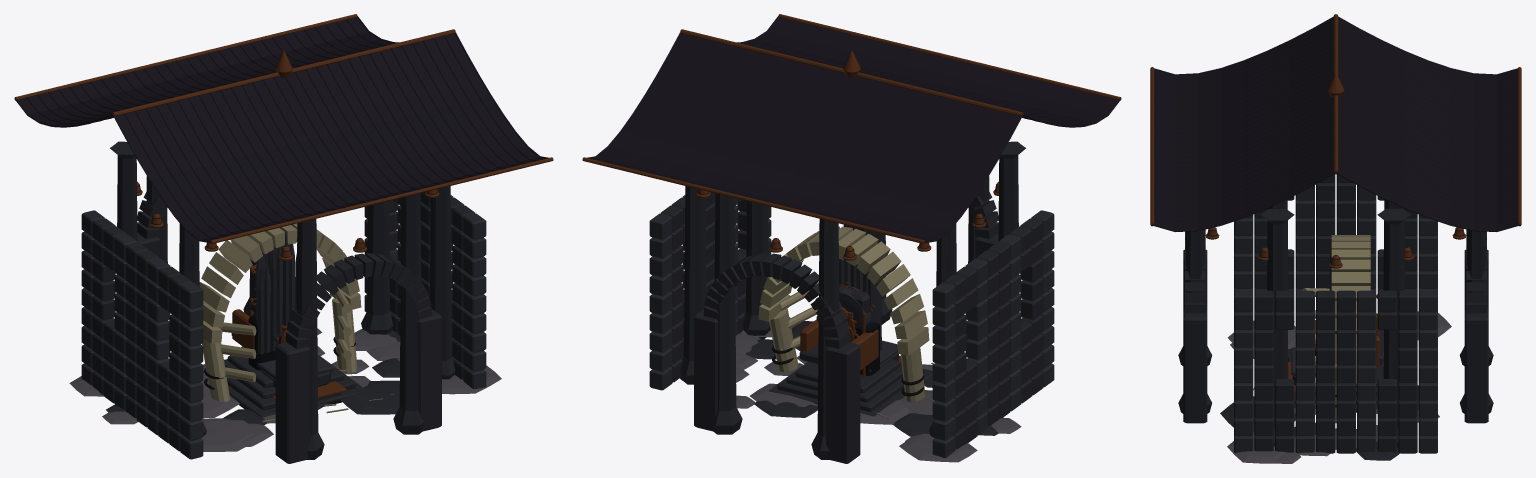
Rendered from ember_abyss.glb.
The picture shows the model from 3 angles, left to right: view 1: azimuth 30°, elevation 25°; view 2: azimuth 150°, elevation 25°; view 3: azimuth 270°, elevation 25°; orthographic projection. The views are drawn at different scales.
Visible parts, largest first — view 1: BellTower_roof, BellTower_stone, BellTower_stone_light, SoulRib_bone, BellTower_trim, AshShore_ash, Throne_stone, AshShore_stone, Throne_stone_light; view 2: BellTower_roof, BellTower_stone, BellTower_stone_light, SoulRib_bone, BellTower_trim, AshShore_ash, Throne_stone, AshShore_stone, Throne_trim; view 3: BellTower_roof, BellTower_stone, BellTower_stone_light, BellTower_trim, SoulRib_bone, AshShore_ash, AshShore_stone, Throne_stone.
Part boxes in pixels (x1=…): BellTower_roof: x1=15, y1=16, x2=549, y2=242; BellTower_stone: x1=92, y1=141, x2=475, y2=463; BellTower_stone_light: x1=81, y1=195, x2=486, y2=459; SoulRib_bone: x1=199, y1=223, x2=361, y2=401; BellTower_trim: x1=14, y1=14, x2=553, y2=260; AshShore_ash: x1=69, y1=328, x2=501, y2=451; Throne_stone: x1=203, y1=231, x2=366, y2=417; AshShore_stone: x1=106, y1=330, x2=400, y2=424; Throne_stone_light: x1=264, y1=244, x2=294, y2=352; BellTower_roof: x1=586, y1=16, x2=1120, y2=242; BellTower_stone: x1=660, y1=141, x2=1043, y2=463; BellTower_stone_light: x1=649, y1=195, x2=1054, y2=458; SoulRib_bone: x1=758, y1=226, x2=929, y2=402; BellTower_trim: x1=582, y1=14, x2=1121, y2=260; AshShore_ash: x1=735, y1=317, x2=1021, y2=462; Throne_stone: x1=769, y1=229, x2=932, y2=416; AshShore_stone: x1=745, y1=321, x2=998, y2=436; Throne_trim: x1=800, y1=282, x2=878, y2=370; BellTower_roof: x1=1152, y1=16, x2=1519, y2=231; BellTower_stone: x1=1178, y1=174, x2=1493, y2=453; BellTower_stone_light: x1=1234, y1=185, x2=1437, y2=453; BellTower_trim: x1=1150, y1=14, x2=1521, y2=268; SoulRib_bone: x1=1302, y1=235, x2=1370, y2=416; AshShore_ash: x1=1227, y1=311, x2=1451, y2=463; AshShore_stone: x1=1220, y1=330, x2=1418, y2=460; Throne_stone: x1=1288, y1=241, x2=1383, y2=412.
Bounding box in the file's own units: 16 × 15 × 16.
